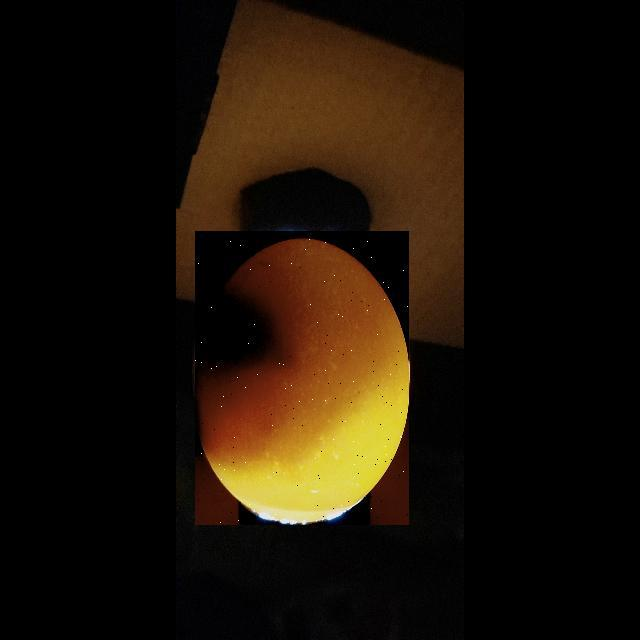Infertile: (195, 231, 409, 525)
